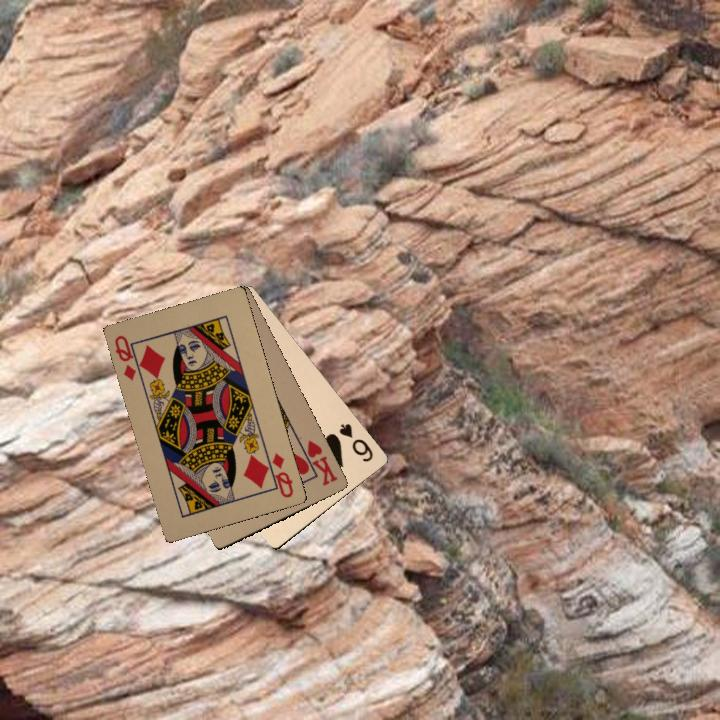6s: (335, 419, 376, 465)
Kh: (296, 436, 340, 488)
Qd: (110, 331, 145, 383), (262, 448, 296, 500)
